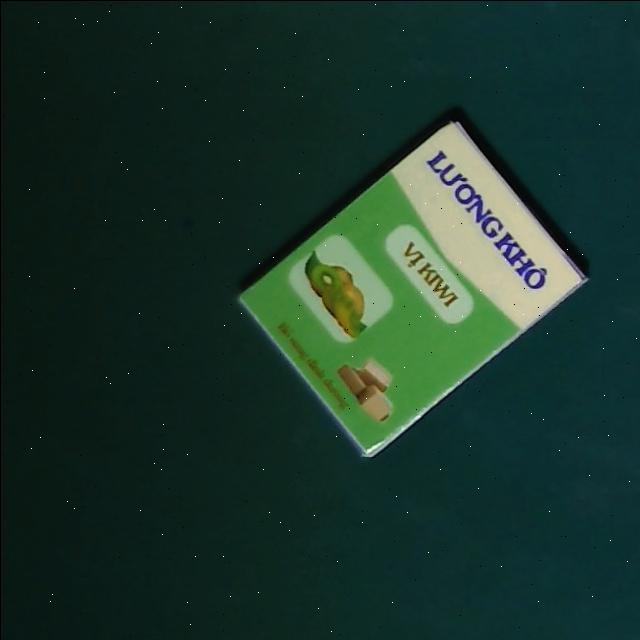kiwi: (230, 110, 590, 460)
